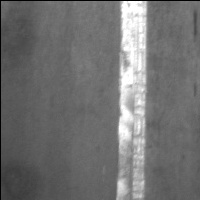scratches: (113, 1, 152, 200)
